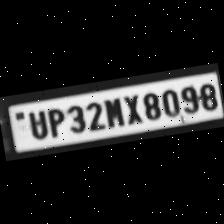0: (158, 85, 182, 119)
2: (82, 97, 106, 132)
3: (63, 102, 86, 134)
8: (138, 88, 162, 122), (196, 79, 220, 112)
9: (177, 82, 201, 116)
M: (102, 95, 124, 129)
P: (43, 105, 67, 139)
U: (24, 108, 50, 140)
X: (120, 91, 144, 127)
